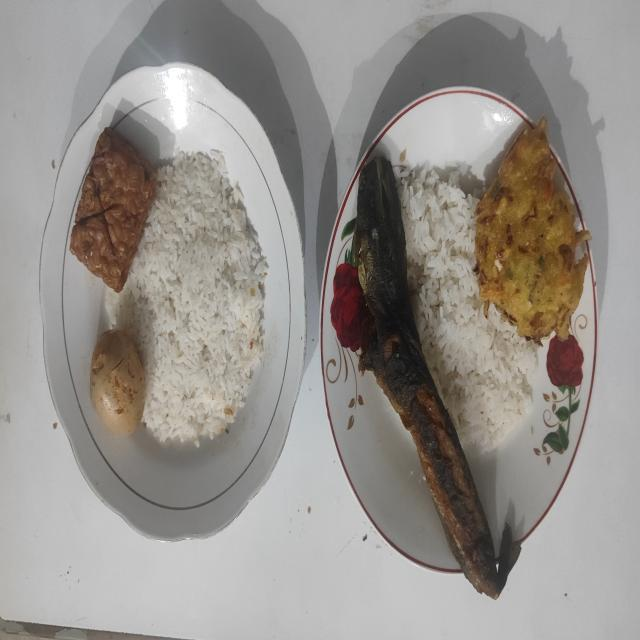nasi_putih: (110, 151, 269, 447), (398, 162, 540, 452)
tempe_goreng: (70, 129, 157, 292)
